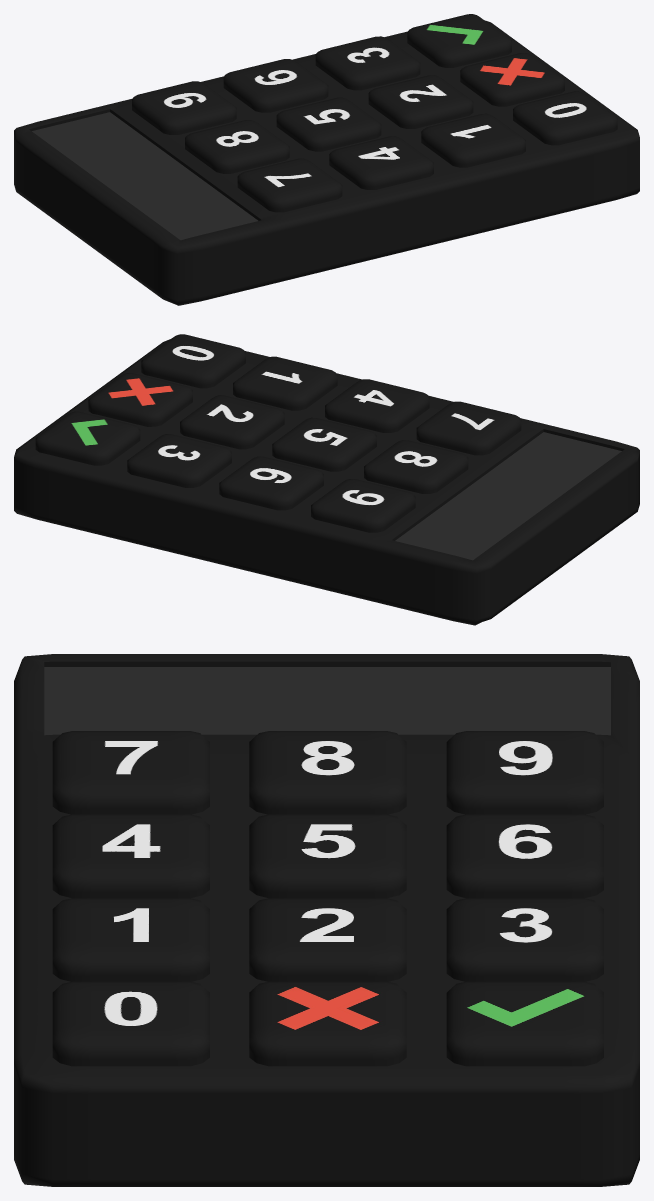
Rendered from Pad01.fbx.
3 renders of one model, top to bottom at view 1: azimuth 30°, elevation 25°; view 2: azimuth 150°, elevation 25°; view 3: azimuth 270°, elevation 25°, orthographic. The views are drawn at different scales.
Visible parts, largest first — view 1: Block, Screen, Touche_3, Touche_7, Touche_5, Touche_0, Touche_6, Touche_2, Touche_OK, Touche_8, Touche_NO, Touche_1 (+2 smaller); view 2: Block, Screen, Touche_OK, Touche_7, Touche_6, Touche_0, Touche_2, Touche_3, Touche_1, Touche_9, Touche_NO, Touche_5 (+2 smaller); view 3: Block, Screen, Touche_NO, Touche_0, Touche_OK, Touche_5, Touche_6, Touche_4, Touche_2, Touche_1, Touche_7, Touche_8 (+2 smaller).
Part boxes in pixels (left/top/right/bottom): Block: left=14, top=20, right=639, bottom=305; Screen: left=32, top=112, right=258, bottom=240; Touche_3: left=315, top=36, right=420, bottom=90; Touche_7: left=237, top=158, right=342, bottom=212; Touche_5: left=276, top=97, right=381, bottom=151; Touche_0: left=513, top=91, right=617, bottom=145; Touche_6: left=223, top=59, right=328, bottom=112; Touche_2: left=368, top=75, right=473, bottom=128; Touche_OK: left=407, top=14, right=511, bottom=67; Touche_8: left=185, top=120, right=289, bottom=173; Touche_NO: left=460, top=53, right=564, bottom=106; Touche_1: left=421, top=113, right=525, bottom=167; Block: left=14, top=339, right=639, bottom=625; Screen: left=395, top=432, right=621, bottom=560; Touche_OK: left=35, top=411, right=140, bottom=465; Touche_7: left=416, top=401, right=521, bottom=455; Touche_6: left=219, top=456, right=323, bottom=510; Touche_0: left=141, top=334, right=245, bottom=388; Touche_2: left=180, top=395, right=284, bottom=449; Touche_3: left=127, top=434, right=231, bottom=487; Touche_1: left=233, top=356, right=337, bottom=410; Touche_9: left=311, top=479, right=415, bottom=532; Touche_NO: left=88, top=373, right=192, bottom=426; Touche_5: left=272, top=417, right=376, bottom=471; Block: left=14, top=654, right=639, bottom=1186; Screen: left=44, top=667, right=610, bottom=735; Touche_NO: left=249, top=981, right=406, bottom=1066; Touche_0: left=52, top=981, right=209, bottom=1066; Touche_OK: left=446, top=981, right=603, bottom=1066; Touche_5: left=249, top=814, right=406, bottom=898; Touche_6: left=446, top=814, right=603, bottom=898; Touche_4: left=52, top=814, right=209, bottom=898; Touche_2: left=249, top=898, right=406, bottom=981; Touche_1: left=52, top=898, right=209, bottom=981; Touche_7: left=52, top=731, right=209, bottom=814; Touche_8: left=249, top=731, right=406, bottom=814.
Bounding box in the file's own units: 26 × 3.89 × 15.92.
